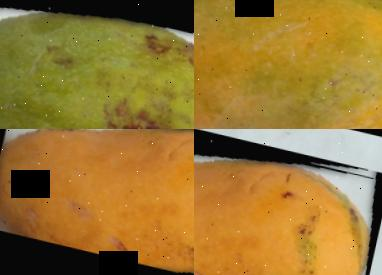PartiallyRipe: (194, 0, 382, 129)
Ripe: (0, 129, 194, 275), (194, 129, 382, 275)
Unripe: (0, 0, 194, 129)
